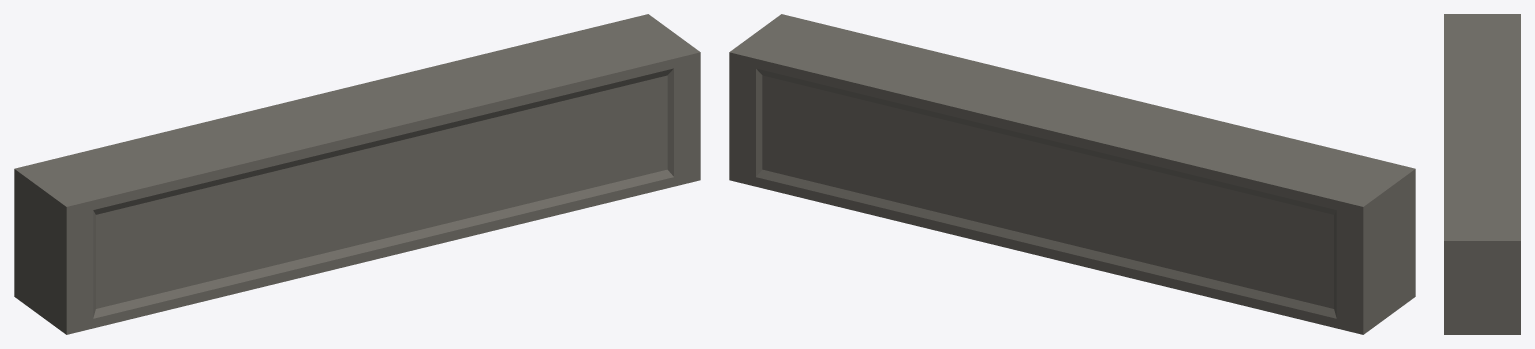
The model's file is SM_Train_Subway_Station_Pillar_Beam_02.fbx.
The picture shows the model from 3 angles, left to right: view 1: azimuth 30°, elevation 25°; view 2: azimuth 150°, elevation 25°; view 3: azimuth 270°, elevation 25°; orthographic projection. The views are drawn at different scales.
Visible parts, largest first — view 1: SM_Train_Subway_Station_Pillar_Beam_02; view 2: SM_Train_Subway_Station_Pillar_Beam_02; view 3: SM_Train_Subway_Station_Pillar_Beam_02.
Part boxes in pixels (box(x1,y1,x2,y2)): SM_Train_Subway_Station_Pillar_Beam_02: box(14, 14, 700, 334); SM_Train_Subway_Station_Pillar_Beam_02: box(729, 14, 1415, 334); SM_Train_Subway_Station_Pillar_Beam_02: box(1444, 14, 1520, 334).
Bounding box in the file's own units: 350 × 67.5 × 50.
